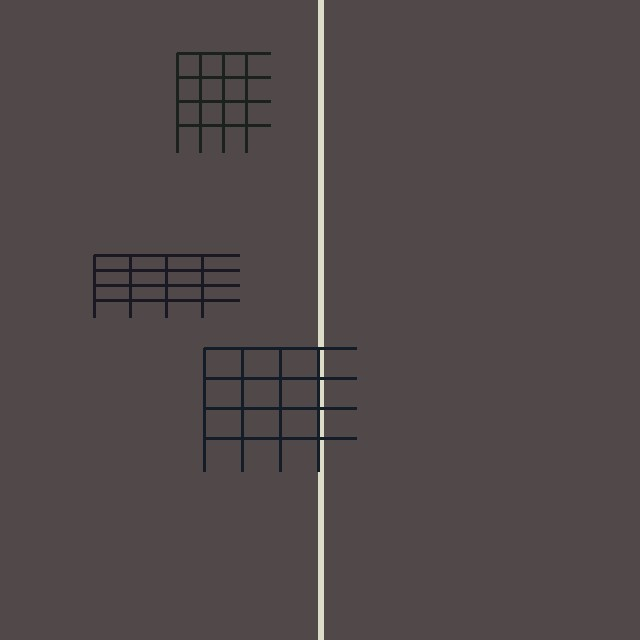alligator_crack: (204, 348, 356, 471), (177, 53, 270, 152), (94, 255, 239, 317)
